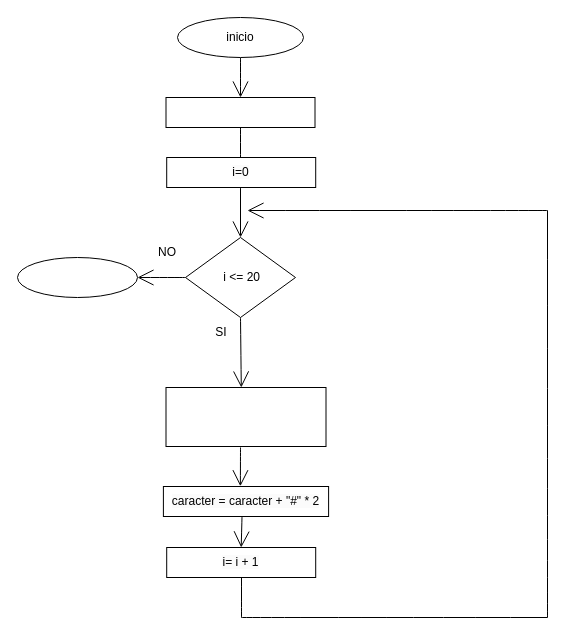
Image size: 566x636. Some labels were removed from this diagram. The shapes that lost their labels are listed below. From the top down, each one's centre as x and y in pixels, then its label:
point 240,112: caracter = '#'
point 77,277: fin
point 245,416: Mostrarmos por pantalla " " * (20 - i) + caracter
